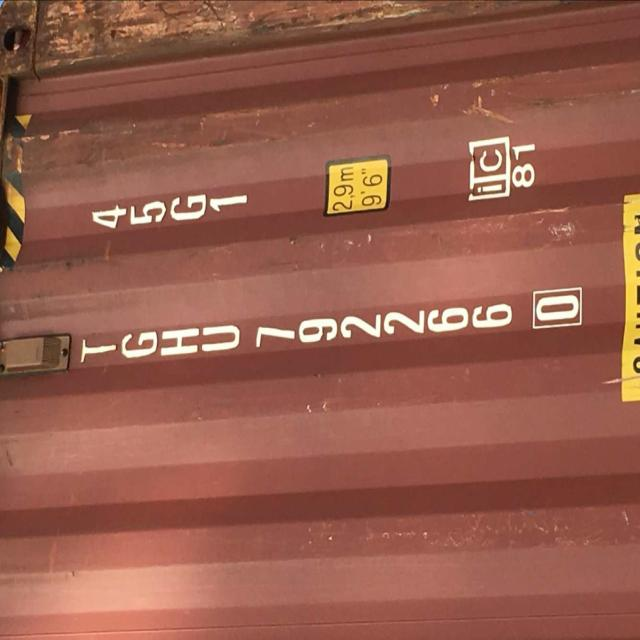rust: (1, 104, 285, 183), (14, 252, 131, 284), (510, 88, 598, 119)
